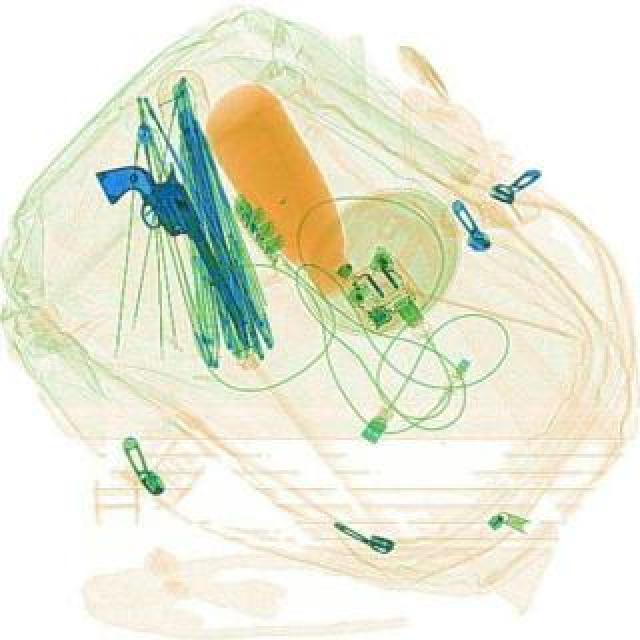gun: (92, 144, 248, 350)
